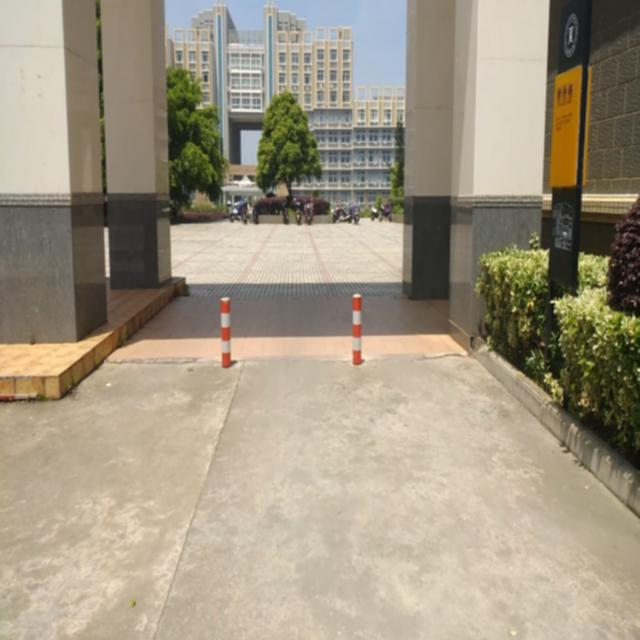warning_column: (347, 290, 366, 365), (217, 293, 233, 367)
